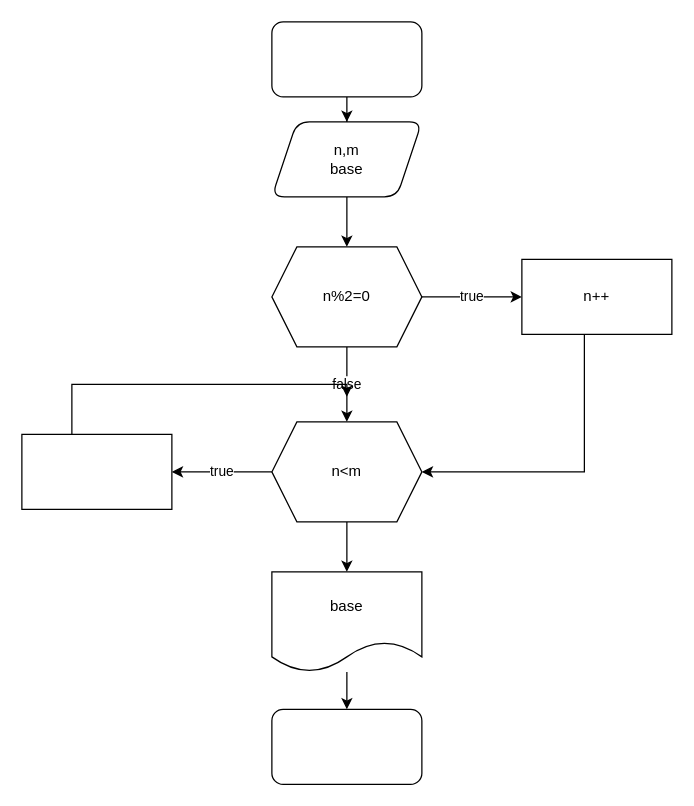
Image size: 694x806. Some labels were removed from this diagram. Each missing label, with the centre of its shape:
"end" belongs at (x=346, y=746).
"n+=2 base++" belongs at (x=96, y=471).
"start" belongs at (x=346, y=59).
